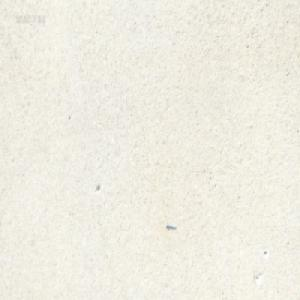Nail: (166, 222, 176, 230)
